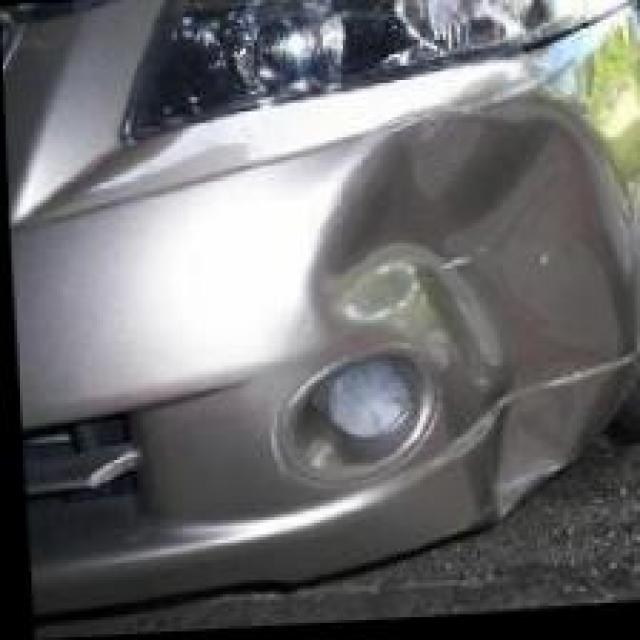car damage: (303, 100, 637, 529)
